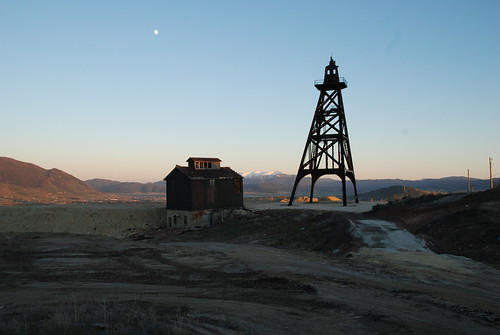building: (287, 55, 364, 203), (157, 155, 248, 241)
sky: (7, 1, 500, 163)
